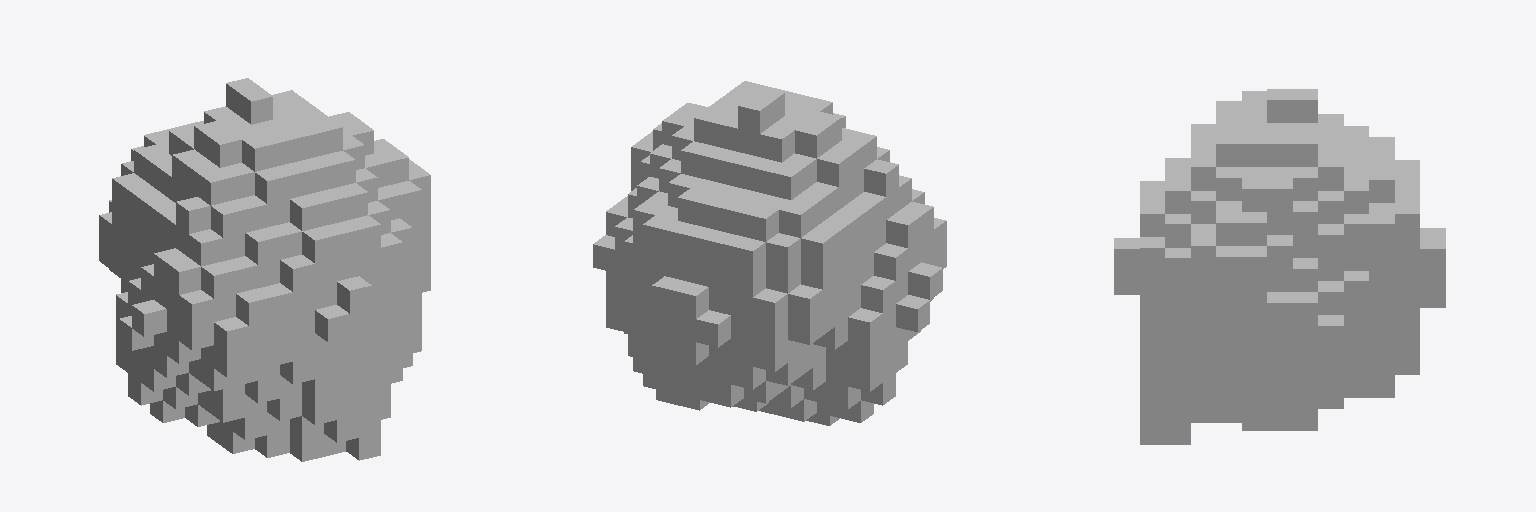
The model's file is asteroid20.obj.
3 renders of one model, left to right at view 1: azimuth 30°, elevation 25°; view 2: azimuth 150°, elevation 25°; view 3: azimuth 270°, elevation 25°, orthographic.
Visible parts, largest first — view 1: Icosphere.001; view 2: Icosphere.001; view 3: Icosphere.001.
Part boxes in pixels (left/top/right/bottom): Icosphere.001: left=99, top=78, right=430, bottom=461; Icosphere.001: left=593, top=81, right=946, bottom=425; Icosphere.001: left=1114, top=89, right=1445, bottom=444.
Size of the model in its own units: 1.88 by 2.02 by 1.88.